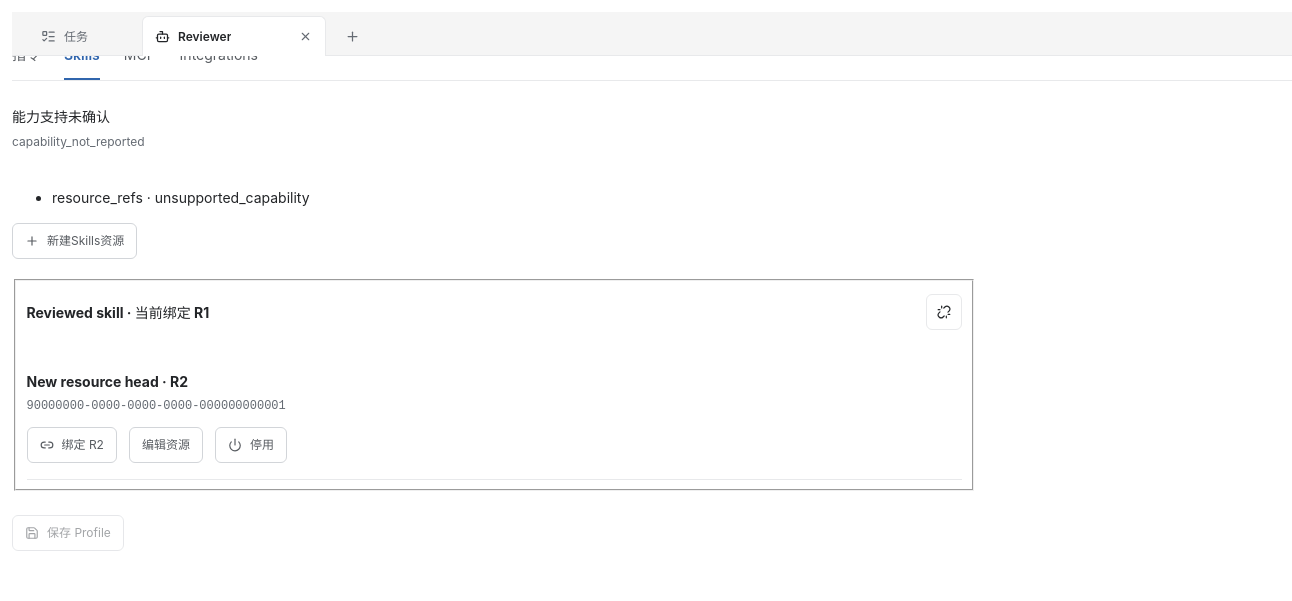
Test: independent resources and immutable Profile capability bindings › only replaces a pinned resource revision after an explicit bind and Profile save
This screenshot has width=1292, height=601.
Expected: the text "Reviewed skill · 当前绑定 R1" is shown, [26,300,209,324]
Click the button with aria-label "绑定 New resource head R2". click: (72, 445)
box: [26,427,117,463]
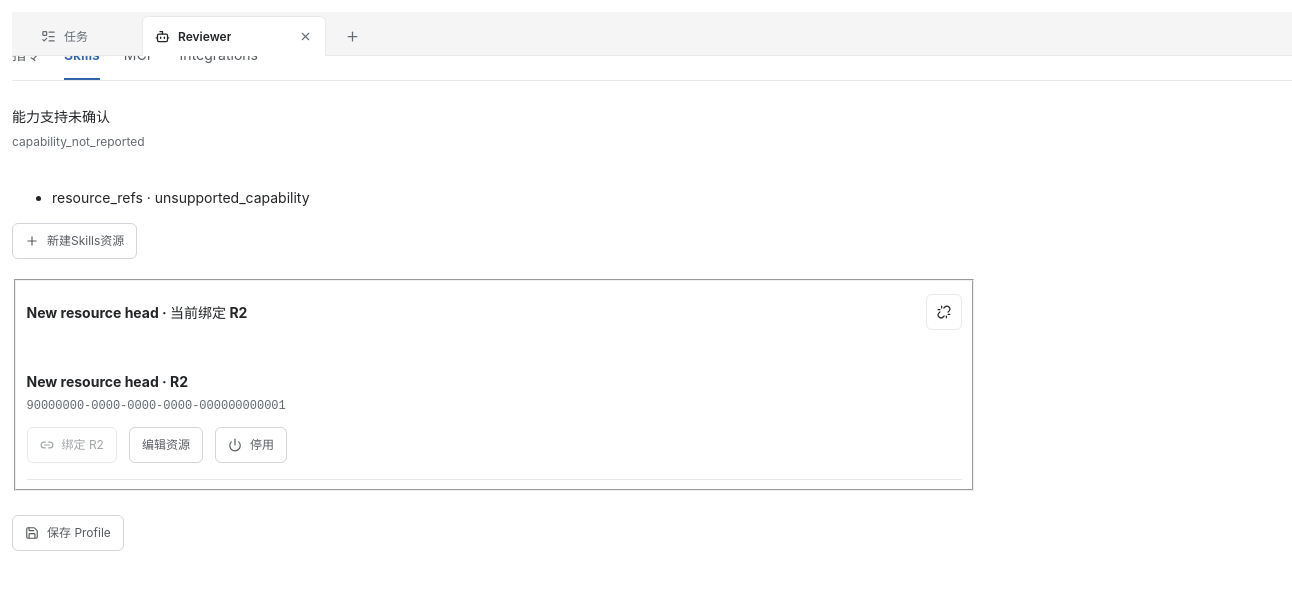
Expected: the text "New resource head · 当前绑定 R2" is shown, [26,300,247,324]
Click the button "保存 Profile". click: (68, 533)
box: [12,515,124,551]
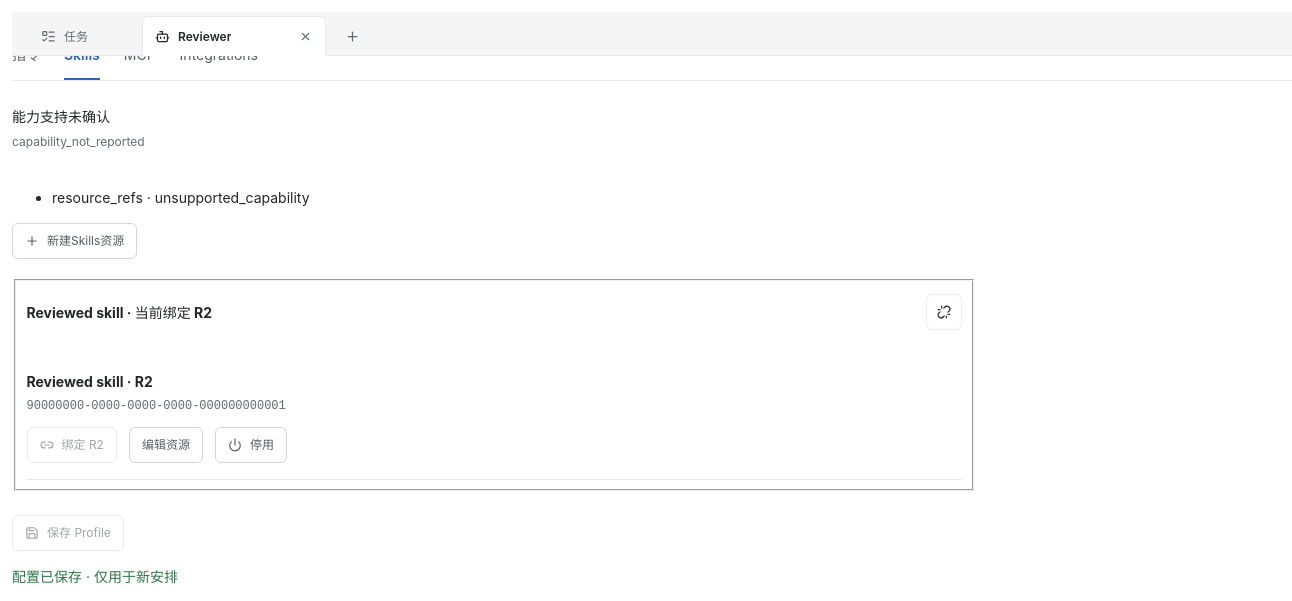
Expected: the text "配置已保存 · 仅用于新安排" is shown, [12,568,178,585]
